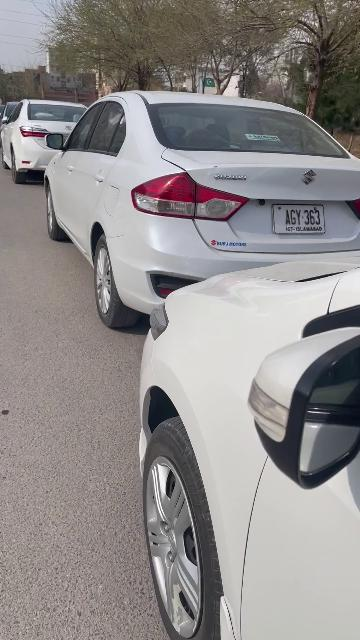plate: (273, 204, 325, 233)
